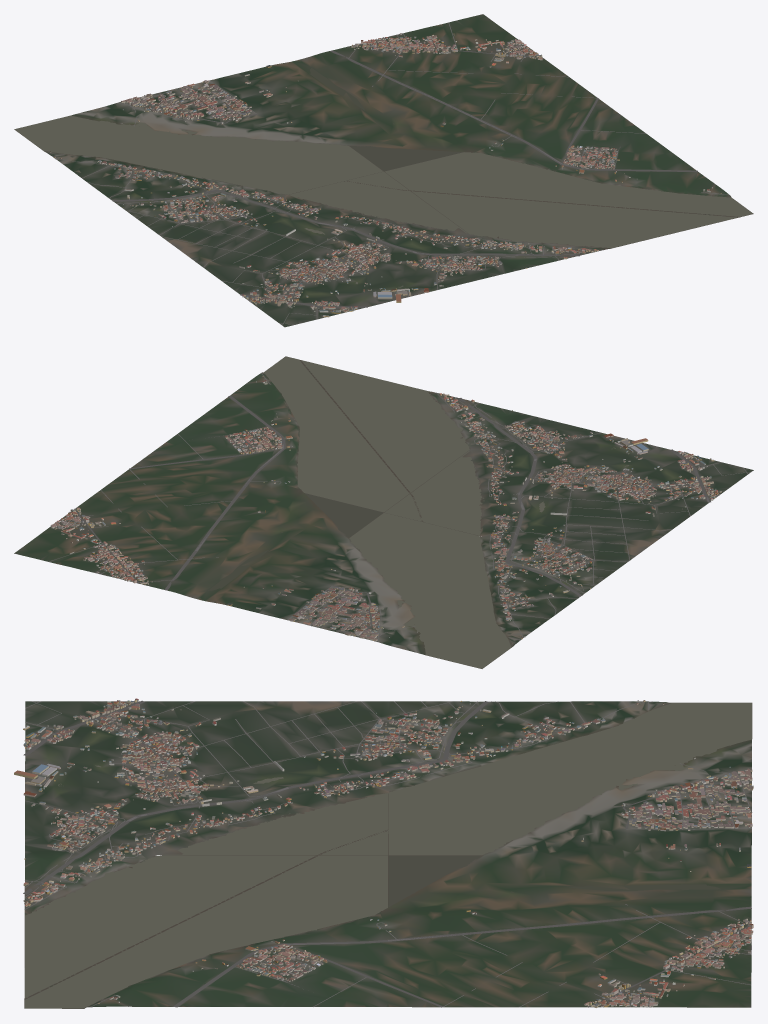
3 renders of one model, top to bottom at view 1: azimuth 30°, elevation 25°; view 2: azimuth 150°, elevation 25°; view 3: azimuth 270°, elevation 25°, orthographic. The views are drawn at different scales.
Visible parts, largest first — view 1: ground, water, buildings, roads; view 2: ground, water, buildings, roads; view 3: ground, water, buildings, roads.
Part boxes in pixels (x1,y1,x2,y2): ground: [14, 14, 752, 327]; water: [14, 68, 753, 287]; buildings: [50, 33, 721, 317]; roads: [52, 22, 728, 325]; ground: [14, 359, 753, 668]; water: [208, 356, 628, 668]; buildings: [50, 376, 721, 643]; roads: [48, 373, 751, 641]; ground: [24, 701, 752, 1008]; water: [24, 702, 751, 1008]; buildings: [14, 698, 753, 1007]; roads: [23, 700, 752, 1007].
Size of the model in its own units: 2812 by 28.22 by 2854.
